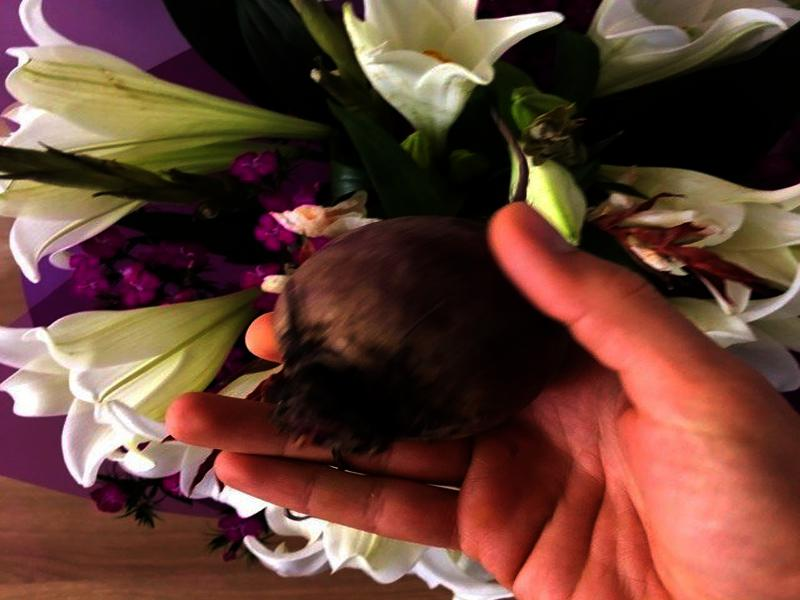Beet: (268, 106, 564, 445)
